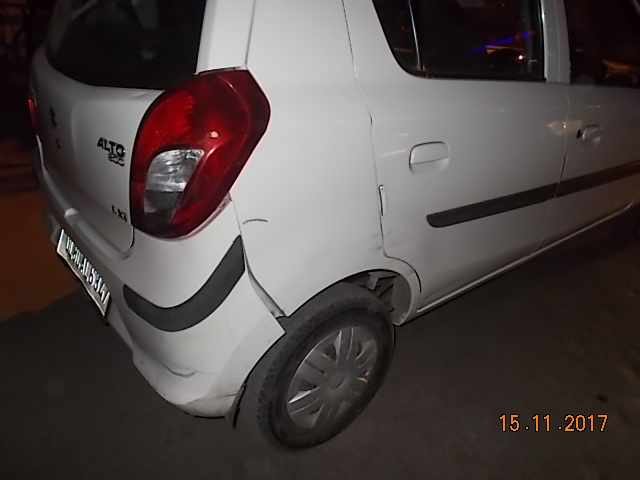Dislocation: (244, 265, 287, 323)
